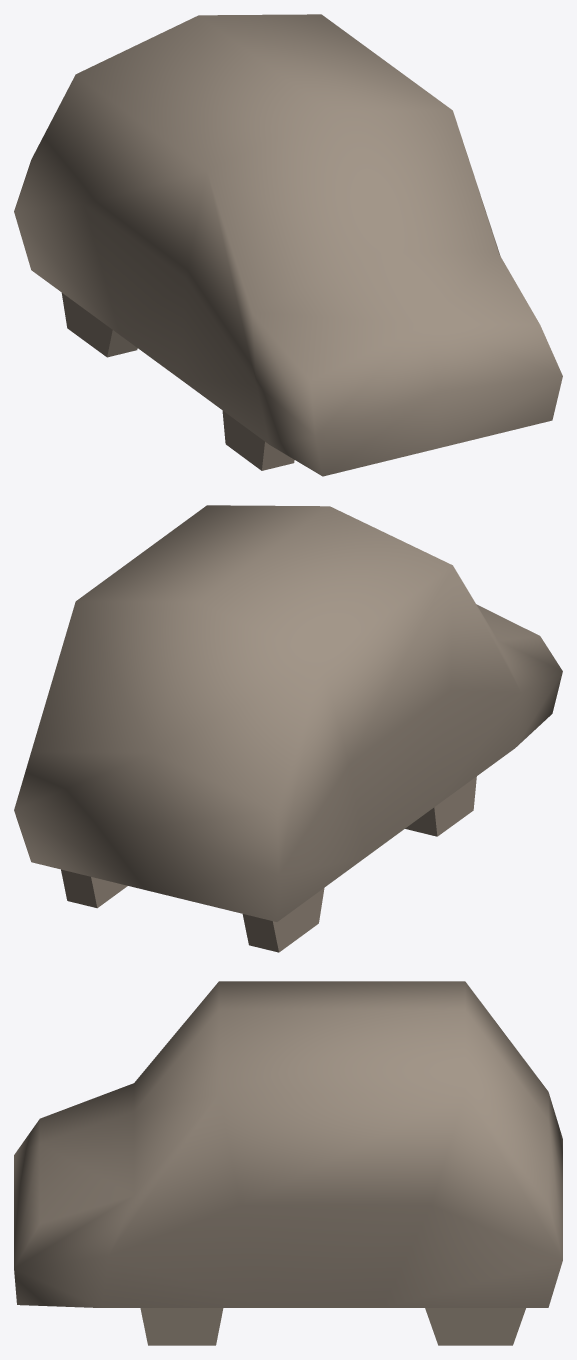
The model's file is car.fbx.
The picture shows the model from 3 angles, top to bottom: view 1: azimuth 30°, elevation 25°; view 2: azimuth 150°, elevation 25°; view 3: azimuth 270°, elevation 25°; orthographic projection. The views are drawn at different scales.
Visible parts, largest first — view 1: car; view 2: car; view 3: car.
Boxes of the visible parts, box(x1,y1,x2,y2) form: car: box(14, 14, 562, 476); car: box(14, 505, 562, 952); car: box(14, 981, 562, 1345).
Bounding box in the file's own units: 371 × 410 × 710.
